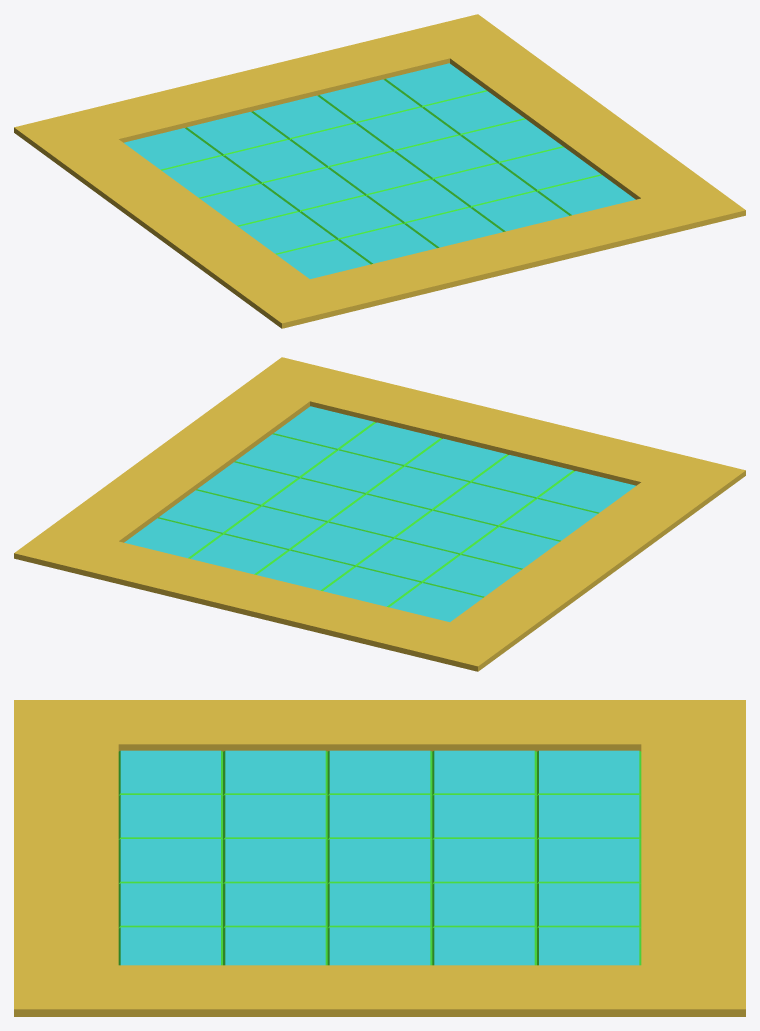
File: Floor_08_Middle_A.fbx
The picture shows the model from 3 angles, top to bottom: view 1: azimuth 30°, elevation 25°; view 2: azimuth 150°, elevation 25°; view 3: azimuth 270°, elevation 25°; orthographic projection. The views are drawn at different scales.
Parts seen in each view (by area): view 1: Floor_08_Middle_A; view 2: Floor_08_Middle_A; view 3: Floor_08_Middle_A.
Boxes of the visible parts, box(x1,y1,x2,y2) form: Floor_08_Middle_A: box(14, 14, 745, 328); Floor_08_Middle_A: box(14, 357, 745, 671); Floor_08_Middle_A: box(14, 700, 745, 1016).
Size of what is drawn, in the model's own units: 457 by 5.08 by 457.
